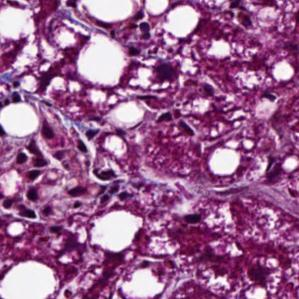inflammation: (12, 138, 53, 183), (150, 105, 202, 139)
